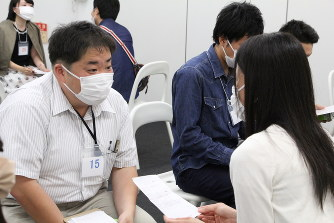mask: (74, 74, 114, 105)
